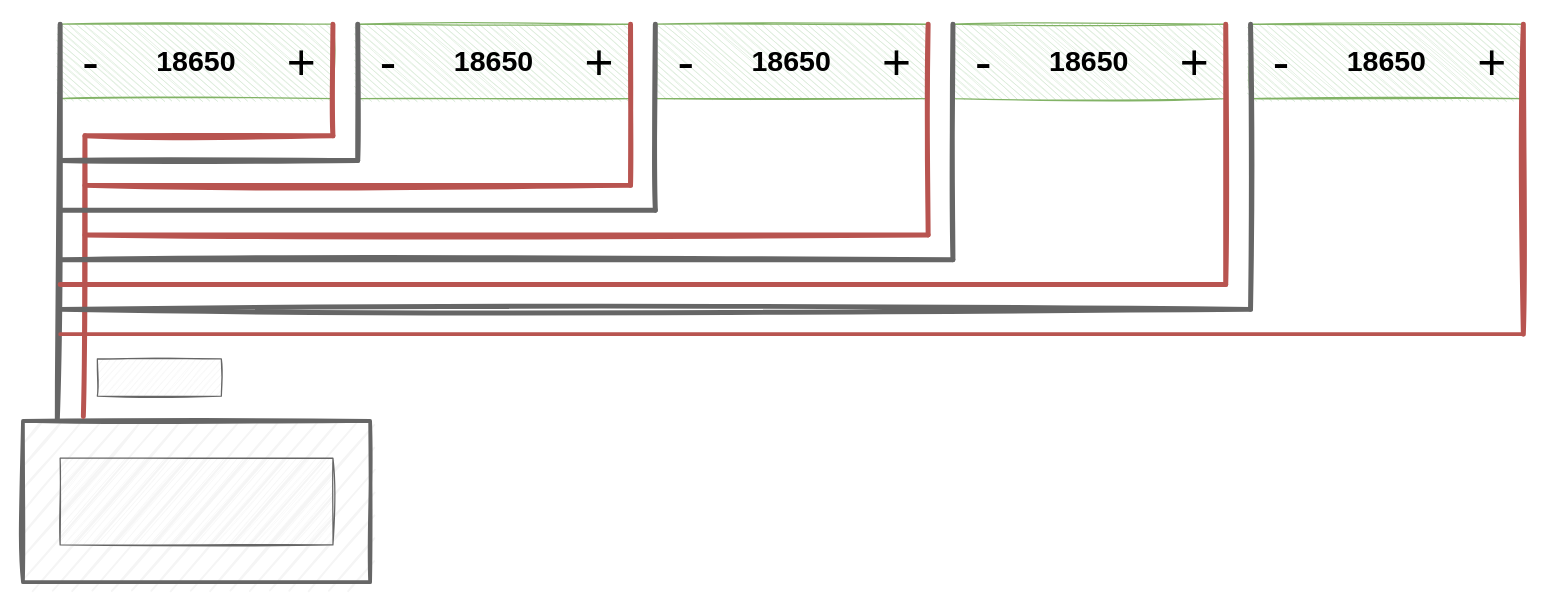
The diagram is 1549 pixels wide and 605 high, and some of its shapes have lost their labels. The shapes that lost their labels are listed below. From the top down, each one's centre as x and y in pixels, then its label:
At [158,377]: "3.6v-4.2v".
At [196,501]: "BMS".
